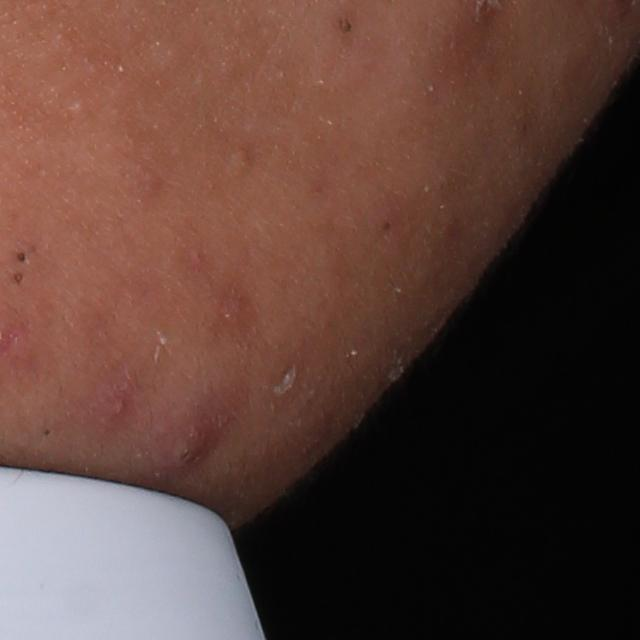comedo: (331, 6, 357, 39), (230, 144, 256, 176), (12, 249, 27, 266)
papule: (150, 410, 222, 471)
